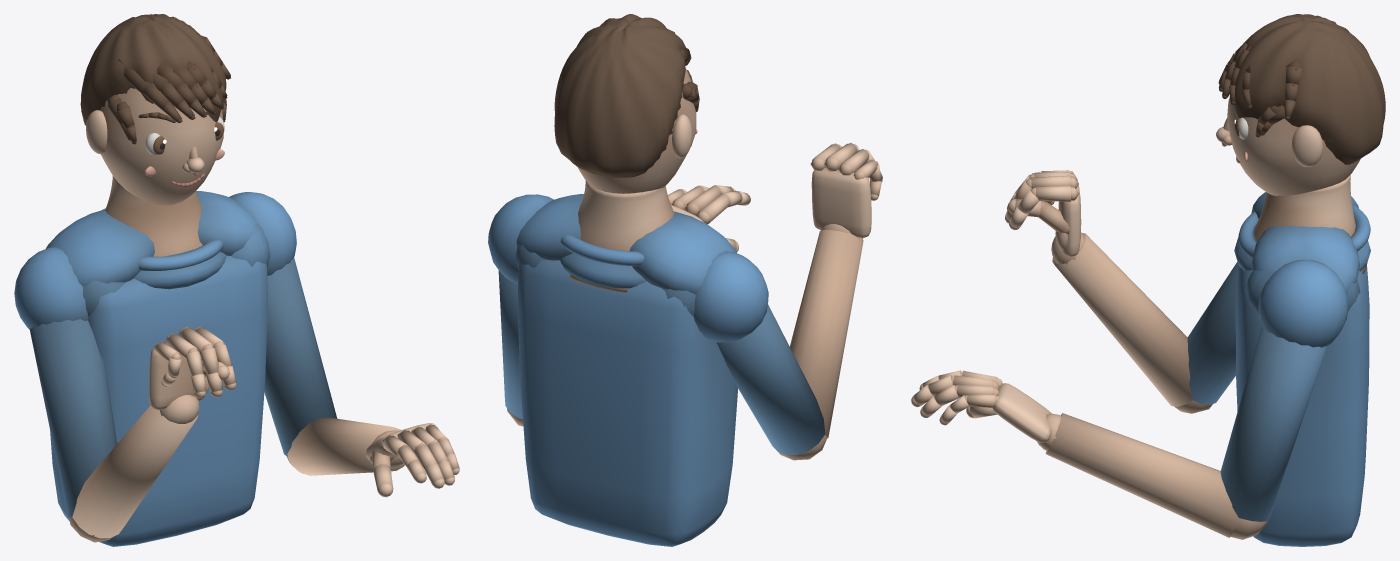
The picture shows the model from 3 angles, left to right: view 1: azimuth 30°, elevation 25°; view 2: azimuth 150°, elevation 25°; view 3: azimuth 270°, elevation 25°; orthographic projection.
Visible parts, largest first — view 1: LSC_Body; view 2: LSC_Body; view 3: LSC_Body.
Part boxes in pixels (left/top/right/bottom): LSC_Body: left=14, top=14, right=459, bottom=546; LSC_Body: left=488, top=14, right=882, bottom=546; LSC_Body: left=911, top=14, right=1385, bottom=546.
Size of the model in its own units: 0.4304 by 0.713 by 0.6104.
